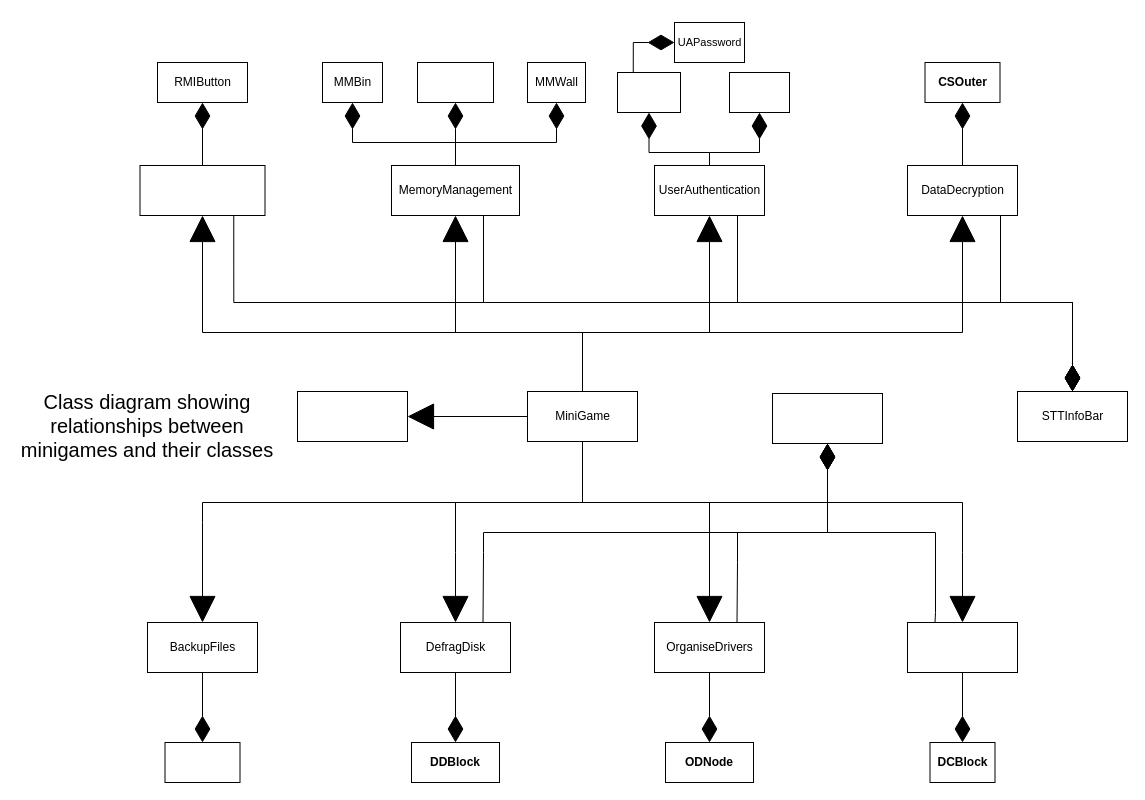
The diagram is 1145 pixels wide and 800 high, and some of its shapes have lost their labels. Here are the shapes that lost their labels. From the top down, the centre of each, then its label:
At point (455, 82): "MMGarbage".
At point (648, 92): "UARequest".
At point (759, 92): "UAButton".
At point (202, 190): "RegisterMouseInputs".
At point (352, 416): "EmptyMiniGame".
At point (827, 418): "TimeInfoBar".
At point (962, 647): "DataCompression".
At point (202, 762): "BFArrow".
